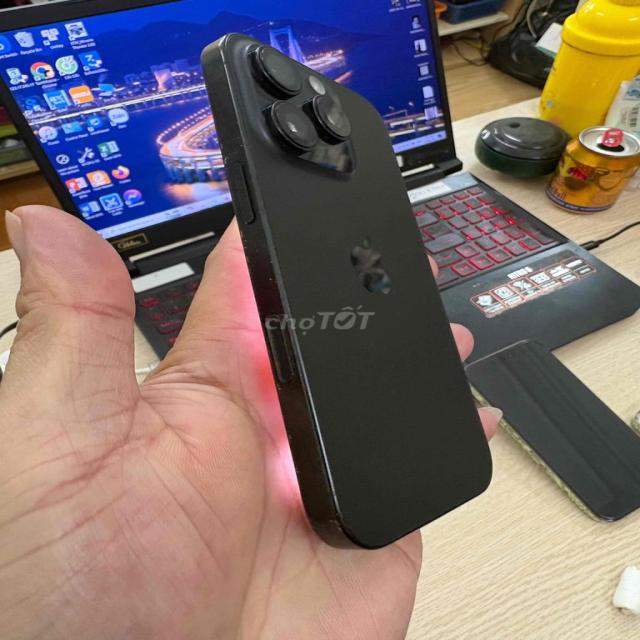physical_damage: (200, 28, 242, 58)
scratch: (265, 302, 303, 406), (240, 221, 282, 291), (320, 469, 350, 533), (217, 124, 247, 164), (288, 428, 312, 448)
